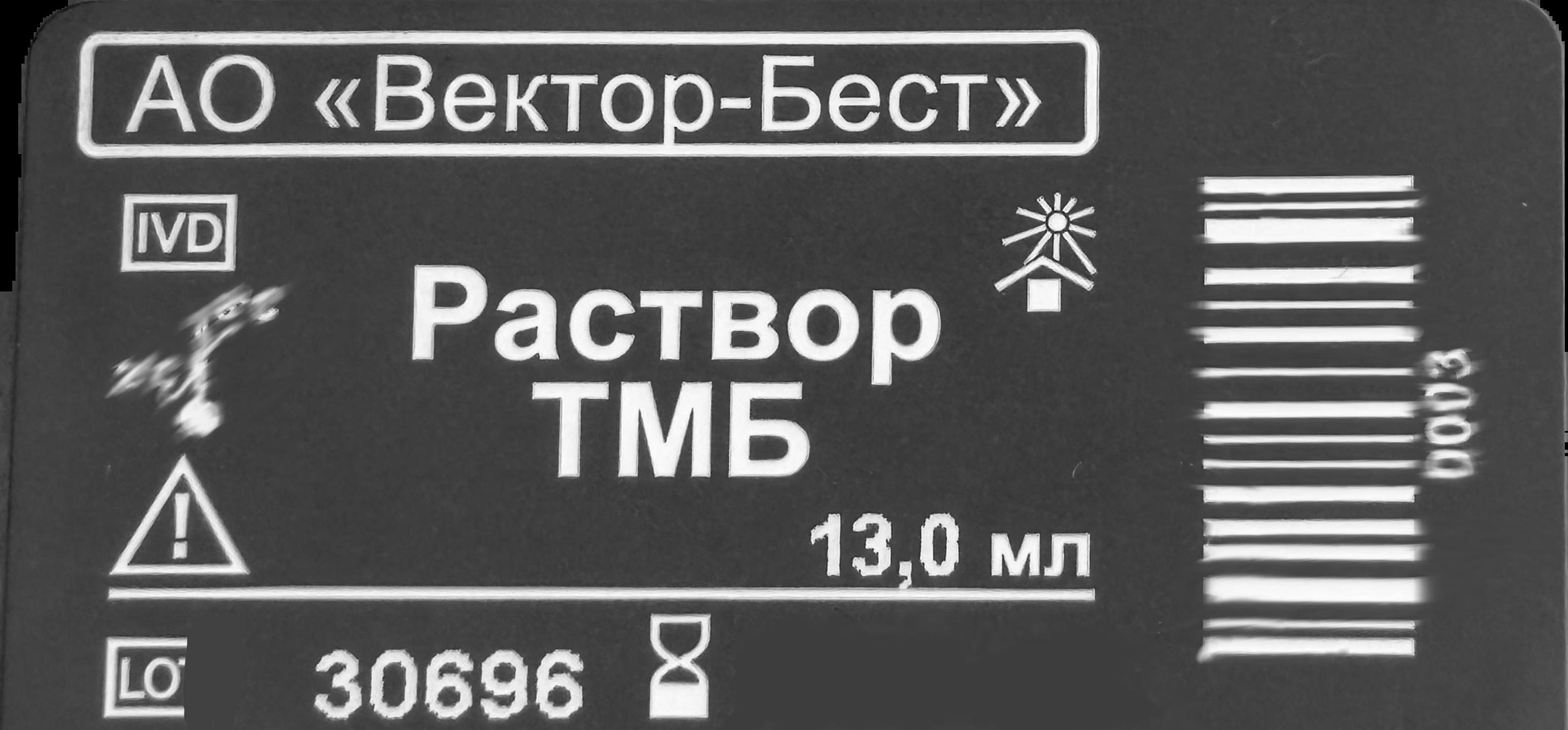something: (1197, 170, 1428, 661), (112, 280, 282, 443), (107, 455, 255, 577), (995, 184, 1098, 323), (118, 191, 241, 277), (102, 637, 197, 718), (645, 611, 713, 718)
text: (412, 261, 940, 484), (118, 47, 1051, 159), (804, 507, 1094, 599), (314, 644, 589, 729), (1419, 343, 1480, 488)
